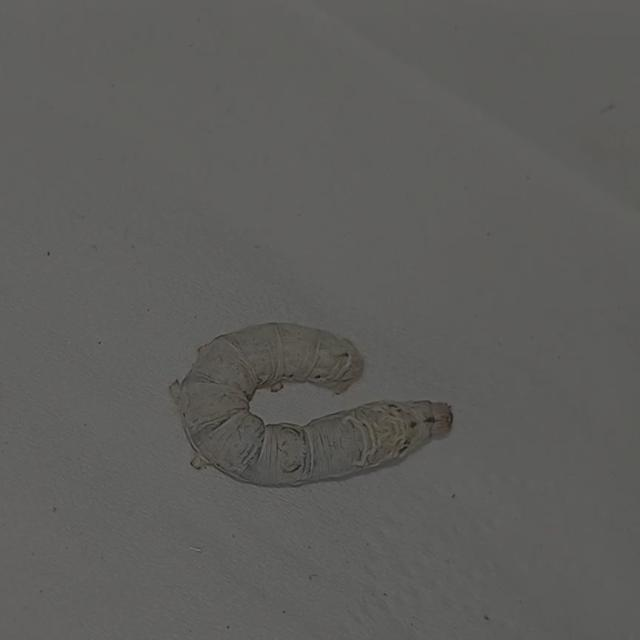Healthy: (147, 294, 478, 512)
